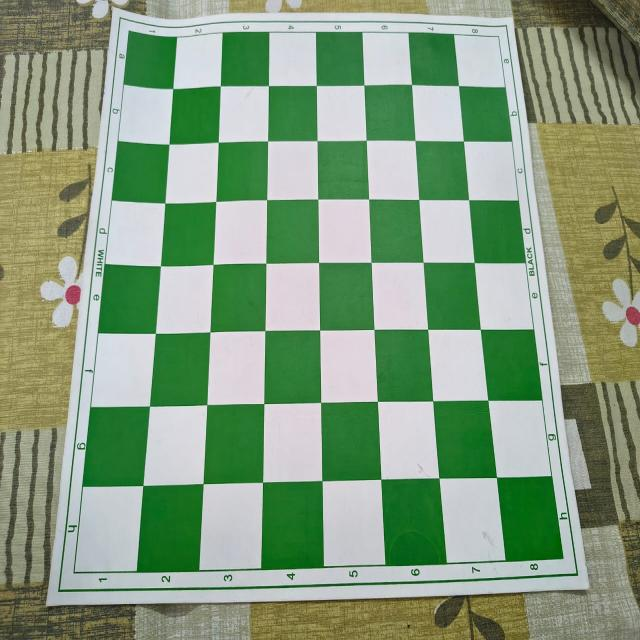square: (497, 476, 568, 564), (439, 477, 509, 565), (74, 488, 144, 574), (197, 483, 263, 573), (381, 481, 448, 566), (136, 486, 202, 572), (260, 480, 321, 572), (323, 482, 385, 570), (81, 406, 149, 486), (142, 408, 206, 486), (203, 406, 266, 484), (435, 403, 499, 478), (378, 405, 440, 481), (491, 404, 554, 478), (91, 332, 154, 404), (322, 406, 382, 481), (264, 407, 324, 482), (149, 331, 209, 404), (375, 329, 435, 401), (96, 262, 156, 334), (429, 330, 489, 402), (207, 331, 266, 404), (320, 331, 379, 404), (482, 328, 543, 398), (265, 331, 323, 403), (425, 262, 483, 331), (156, 264, 213, 334), (476, 262, 535, 329), (319, 263, 377, 331), (104, 200, 162, 268), (372, 262, 430, 330), (265, 264, 321, 334), (212, 263, 268, 332), (213, 199, 269, 264), (472, 200, 528, 264), (266, 200, 321, 264), (111, 140, 166, 204), (371, 198, 427, 260), (160, 202, 214, 266), (421, 201, 475, 264), (319, 200, 373, 262), (217, 140, 270, 202), (367, 142, 421, 202), (118, 84, 170, 146), (123, 32, 177, 91), (165, 142, 218, 202), (418, 142, 471, 201), (469, 140, 521, 200), (268, 141, 320, 200), (460, 84, 512, 140), (414, 85, 466, 141), (170, 86, 220, 144), (318, 142, 370, 197), (218, 86, 270, 141), (173, 33, 223, 89), (366, 84, 416, 140), (362, 32, 412, 86), (268, 85, 318, 139), (317, 86, 367, 140), (454, 35, 505, 87), (316, 32, 365, 86), (221, 31, 269, 86), (269, 32, 317, 87), (408, 34, 458, 86)
